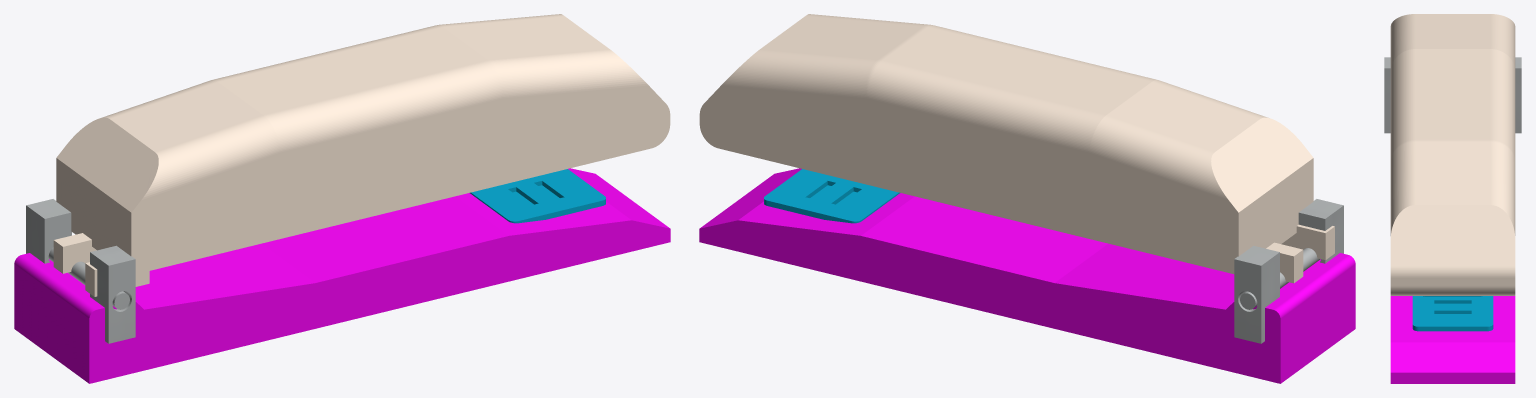
Rendered from Handtools_Stapler__0000.glb.
3 views of the same model, side by side, from view 1: azimuth 30°, elevation 25°; view 2: azimuth 150°, elevation 25°; view 3: azimuth 270°, elevation 25° (orthographic). The views are drawn at different scales.
Parts seen in each view (by area): view 1: top_arm::arm_shell, base::base_body, base::hinge_knuckles, base::anvil_plate, top_arm::hinge_pin; view 2: top_arm::arm_shell, base::base_body, base::hinge_knuckles, base::anvil_plate, top_arm::hinge_pin; view 3: top_arm::arm_shell, base::base_body, base::anvil_plate, base::hinge_knuckles.
Boxes of the visible parts, left/top/right/bottom form: top_arm::arm_shell: left=53, top=14, right=670, bottom=296; base::base_body: left=14, top=168, right=670, bottom=383; base::hinge_knuckles: left=26, top=199, right=135, bottom=343; base::anvil_plate: left=470, top=169, right=605, bottom=223; top_arm::hinge_pin: left=48, top=247, right=129, bottom=309; top_arm::arm_shell: left=699, top=14, right=1334, bottom=283; base::base_body: left=699, top=168, right=1355, bottom=383; base::hinge_knuckles: left=1234, top=199, right=1343, bottom=343; base::anvil_plate: left=764, top=169, right=899, bottom=223; top_arm::hinge_pin: left=1240, top=248, right=1320, bottom=309; top_arm::arm_shell: left=1390, top=14, right=1515, bottom=295; base::base_body: left=1390, top=296, right=1515, bottom=383; base::anvil_plate: left=1412, top=296, right=1493, bottom=331; base::hinge_knuckles: left=1384, top=57, right=1521, bottom=133.
Size of the model in its own units: 0.1801 by 0.0632 by 0.0443.
Materials: 5 (2 with a texture image).
